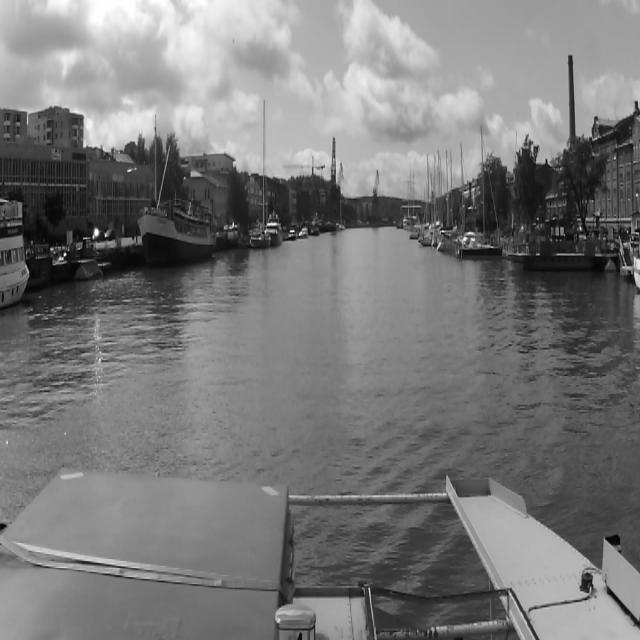ship: (136, 196, 218, 276), (457, 124, 503, 258), (250, 101, 270, 249), (337, 170, 346, 231), (270, 211, 282, 245), (288, 229, 298, 241), (299, 227, 309, 238)
